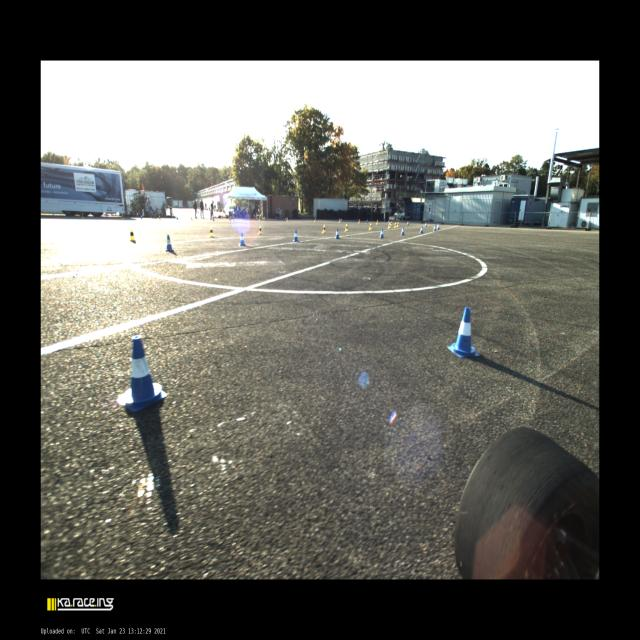blue_cone: (117, 335, 168, 412), (447, 307, 480, 357), (164, 235, 174, 251), (239, 232, 246, 246), (293, 230, 299, 242), (335, 228, 340, 239), (379, 228, 384, 238), (400, 227, 405, 235), (419, 226, 424, 233), (436, 223, 441, 230), (433, 224, 436, 231), (176, 215, 179, 220), (52, 213, 55, 217), (105, 214, 108, 218), (425, 222, 427, 227), (285, 217, 287, 221), (407, 221, 409, 225), (256, 217, 258, 220), (388, 221, 390, 224), (141, 214, 142, 219), (341, 218, 342, 222), (367, 219, 368, 223), (230, 217, 231, 220)
large_orange_cone: (212, 214, 214, 221), (210, 214, 212, 220)
yellow_cone: (129, 228, 136, 242), (208, 226, 214, 237), (322, 224, 326, 233), (258, 226, 262, 234), (344, 224, 348, 232), (369, 223, 372, 230), (388, 223, 391, 229), (394, 222, 397, 228), (286, 217, 289, 222), (397, 221, 399, 228), (82, 213, 84, 219), (122, 214, 124, 220), (159, 215, 161, 220), (191, 216, 193, 221), (358, 219, 360, 224), (376, 220, 378, 225), (314, 218, 316, 222), (339, 218, 340, 223), (391, 221, 392, 226), (233, 217, 234, 221), (259, 217, 260, 221)
